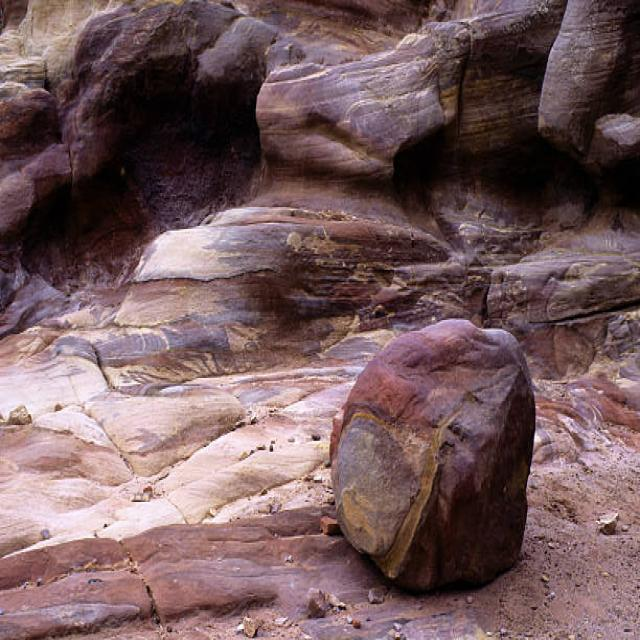Sedimentary: (1, 1, 330, 640), (328, 316, 545, 594)
